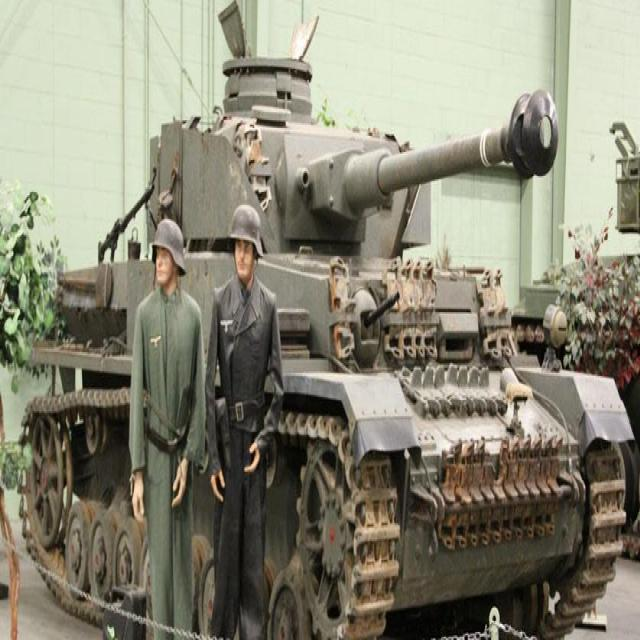Tanks: (26, 98, 560, 576)
